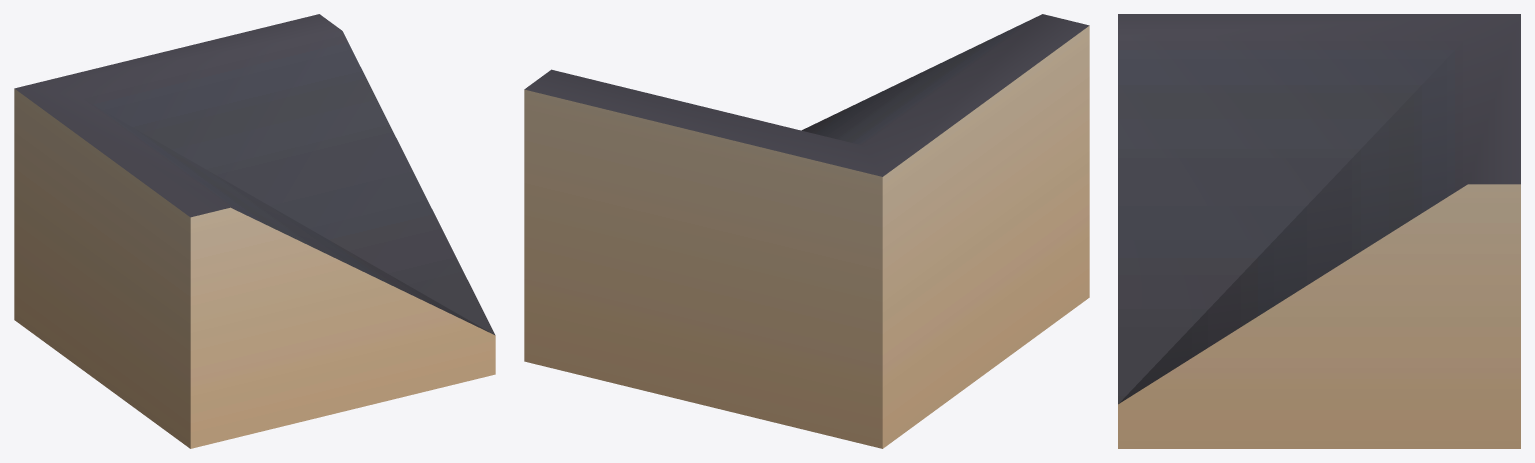
Rendered from kenney-modular-buildings-roof-slanted-corner-inner.glb.
3 views of the same model, side by side, from view 1: azimuth 30°, elevation 25°; view 2: azimuth 150°, elevation 25°; view 3: azimuth 270°, elevation 25° (orthographic). The views are drawn at different scales.
Parts seen in each view (by area): view 1: roof-slanted-corner-inner; view 2: roof-slanted-corner-inner; view 3: roof-slanted-corner-inner.
Boxes of the visible parts, x1=… form: roof-slanted-corner-inner: x1=14, y1=14, x2=495, y2=448; roof-slanted-corner-inner: x1=524, y1=14, x2=1089, y2=448; roof-slanted-corner-inner: x1=1118, y1=14, x2=1520, y2=448.
Bounding box in the file's own units: 1 × 0.7249 × 1.
Materials: 1 (1 with a texture image).
